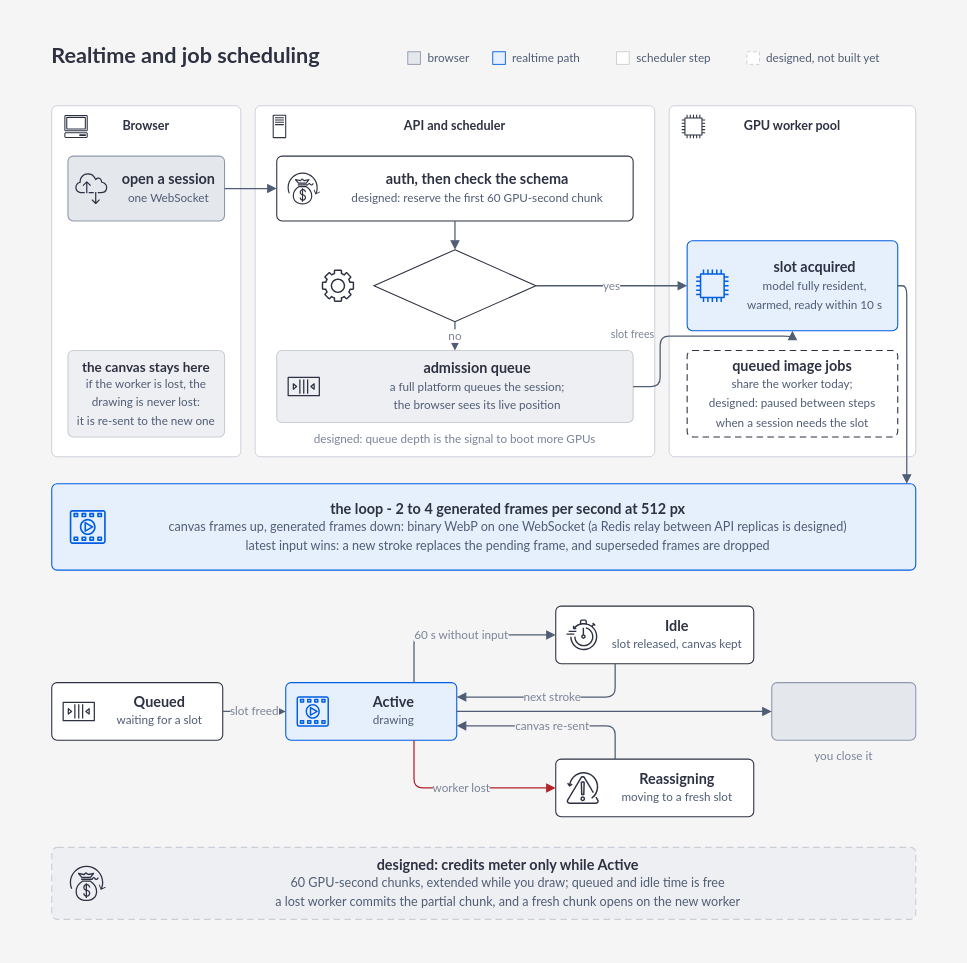
The diagram is 967 pixels wide and 963 high, and some of its shapes have lost their labels. Here are the shapes that lost their labels. From the top down, the centre of each, then its label:
At (454,285): "free realtime slot?".
At (843,711): "closed session over".
